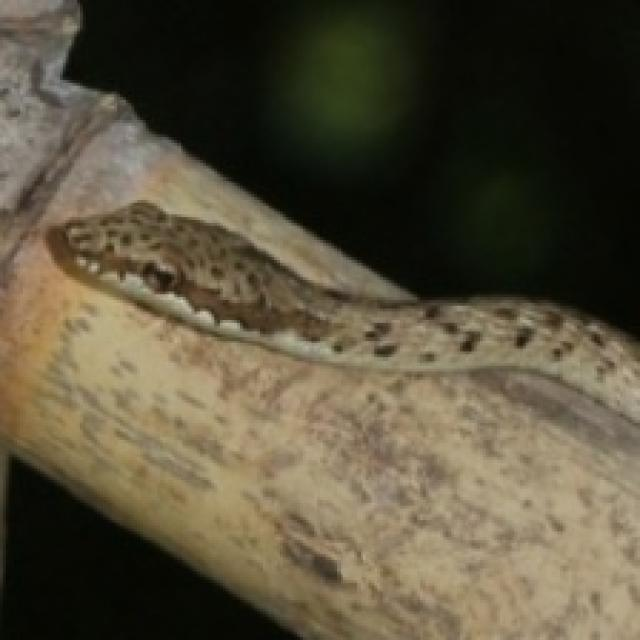philippine whip snake: (49, 200, 637, 420)
